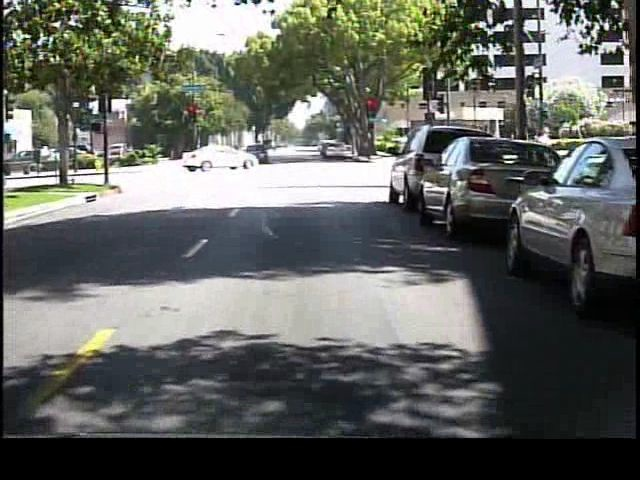person: (256, 141, 273, 170)
